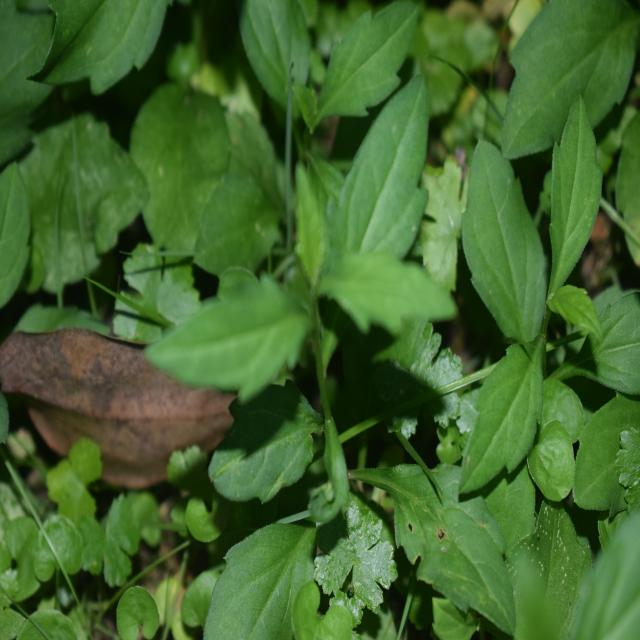Indian aster: (175, 73, 450, 462), (462, 100, 634, 511)
